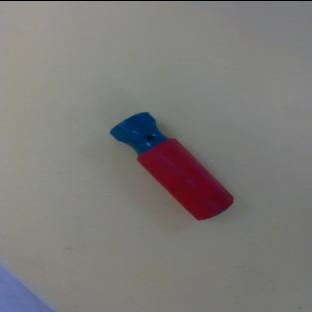part_2_good: (108, 101, 236, 229)
